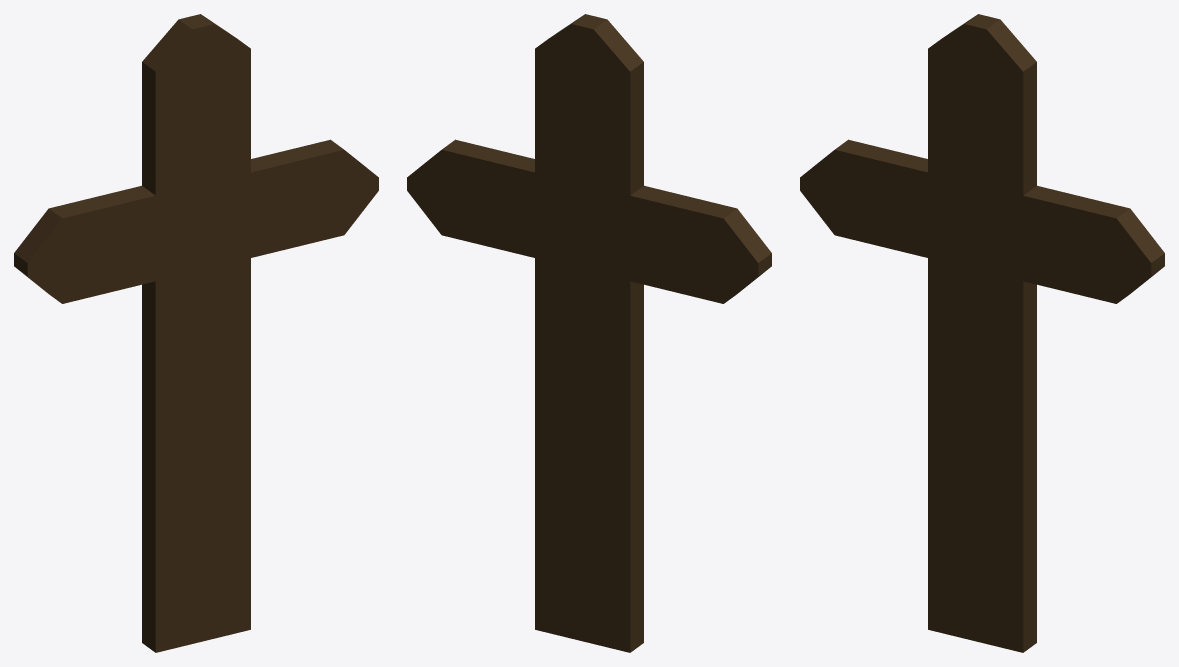
Rendered from Cross_001.fbx.
3 views of the same model, side by side, from view 1: azimuth 30°, elevation 25°; view 2: azimuth 150°, elevation 25°; view 3: azimuth 330°, elevation 25° (orthographic).
Visible parts, largest first — view 1: cross_001; view 2: cross_001; view 3: cross_001.
Boxes of the visible parts, <box> form: cross_001: <box>14,14,378,652</box>; cross_001: <box>407,14,771,652</box>; cross_001: <box>800,14,1164,652</box>.
Size of the model in its own units: 58.87 by 98.44 by 3.99.
